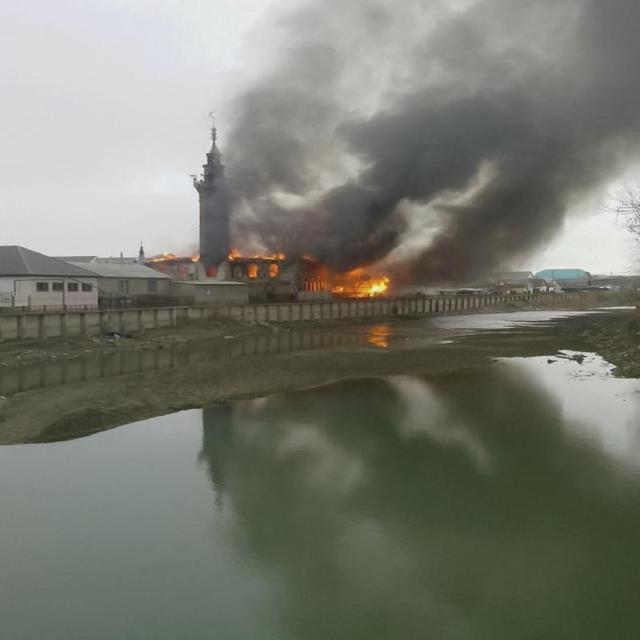Fire: (140, 228, 296, 272), (314, 260, 407, 314)
Smoke: (225, 19, 640, 241)
